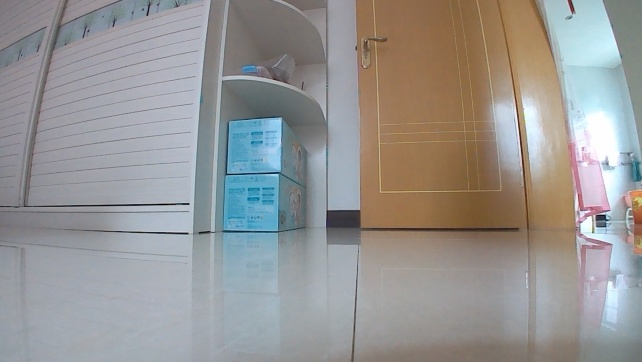door_anno: (354, 0, 576, 245)
